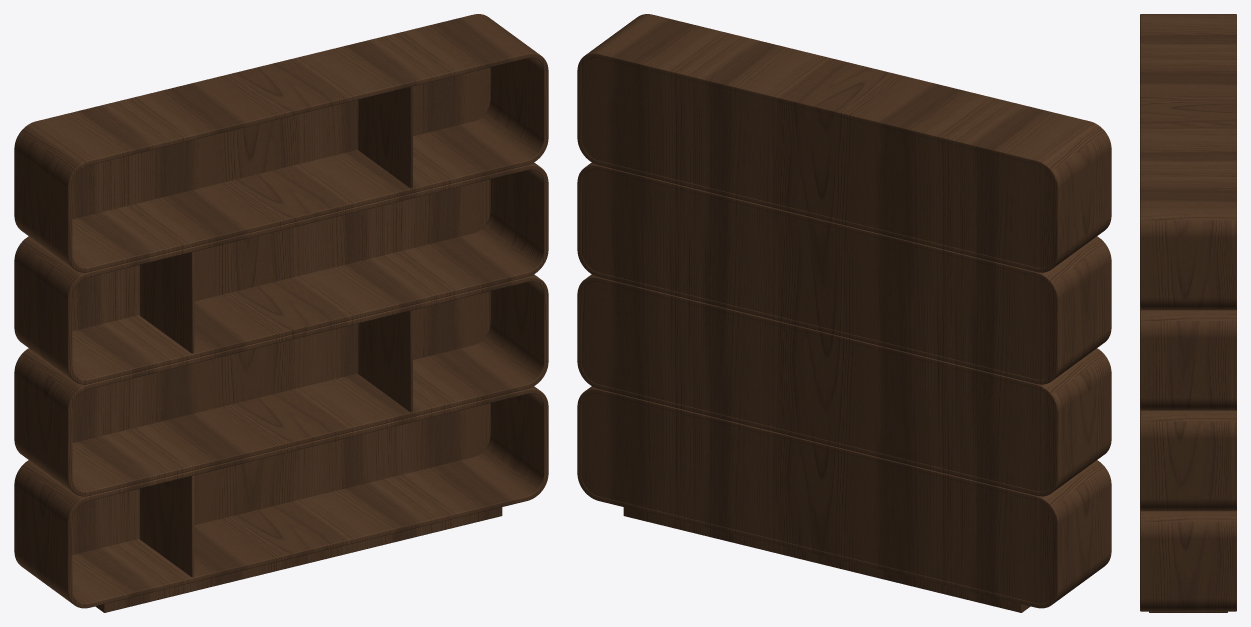
Rendered from Shelf.glb.
3 renders of one model, left to right at view 1: azimuth 30°, elevation 25°; view 2: azimuth 150°, elevation 25°; view 3: azimuth 270°, elevation 25°, orthographic. The views are drawn at different scales.
Parts seen in each view (by area): view 1: Cube.004; view 2: Cube.004; view 3: Cube.004.
Boxes of the visible parts, x1,y1,x2,y2 form: Cube.004: (14,14,548,612); Cube.004: (577,14,1111,612); Cube.004: (1140,14,1236,612).
Size of the model in its own units: 1.8 by 1.65 by 0.35.
Materials: 1 (1 with a texture image).
